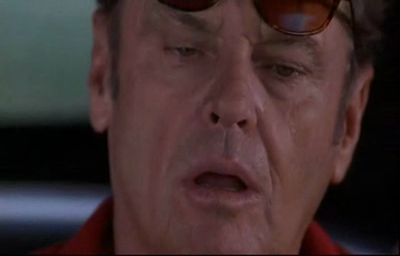ecu: (1, 1, 400, 256)
face: (118, 1, 348, 256)
person: (22, 1, 381, 256)
